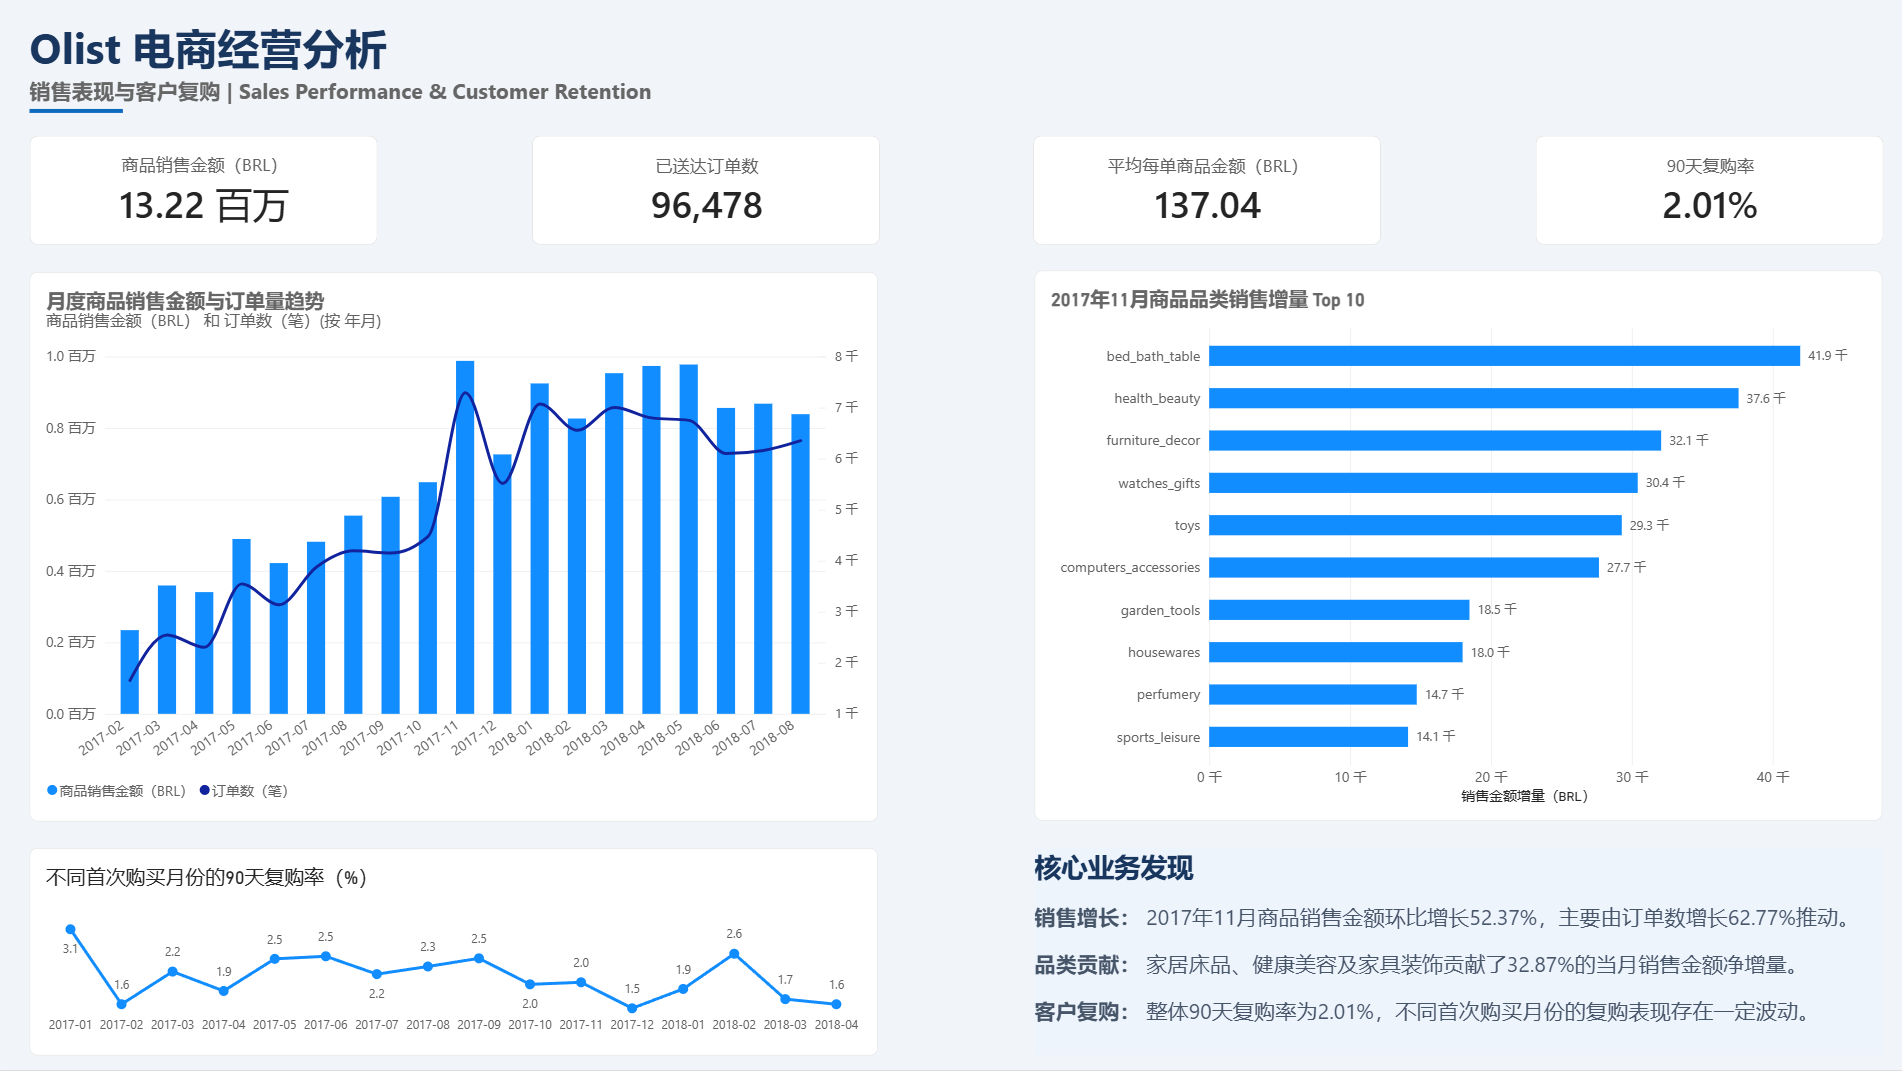

The page's visual inventory and layout, read from the dashboard file:
{"tool":"powerbi","page":{"name":"01｜销售表现与客户复购","canvas":[1920,1080],"ordinal":0},"visuals":[{"type":"cardVisual","title":"商品销售金额（BRL）","fields":{"Data":["Sum(01_总体经营KPI.total_item_amount_brl)"]},"box":[34.8,140.8,350,110],"z":0},{"type":"cardVisual","title":"商品销售金额（BRL）","fields":{"Data":["Sum(01_总体经营KPI.delivered_orders)"]},"box":[539.7,140.8,350,110],"z":1000},{"type":"cardVisual","title":"商品销售金额（BRL）","fields":{"Data":["Sum(01_总体经营KPI.avg_item_amount_per_order_brl)"]},"box":[1044.7,140.8,350,110],"z":2000},{"type":"lineClusteredColumnComboChart","title":"月度商品销售金额与订单量趋势","fields":{"Category":["02_月度销售趋势.年月"],"Y":["Sum(02_月度销售趋势.total_sales)"],"Y2":["Sum(02_月度销售趋势.order_count)"]},"box":[34.8,277.5,853.4,552.7],"z":3000},{"type":"clusteredBarChart","title":"2017年11月商品品类销售增量 Top 10","fields":{"Category":["03_2017年11月品类增长Top10.category"],"Y":["Sum(03_2017年11月品类增长Top10.sales_increase)"]},"box":[1045.5,276.6,852.4,553.2],"z":4000},{"type":"lineChart","title":"不同首次购买月份的90天复购率（%）","fields":{"Category":["04_90天复购Cohort.年月"],"Y":["Sum(04_90天复购Cohort.repeat_rate_90d_pct)"]},"box":[34.8,856.9,853.4,208.6],"z":5000},{"type":"cardVisual","title":"商品销售金额（BRL）","fields":{"Data":["05_90天复购总体KPI.90天复购率_显示"]},"box":[1549.7,140.8,350,110],"z":6000},{"type":"textbox","box":[34.8,22.6,1847.5,88.7],"z":7000},{"type":"textbox","box":[1045.5,857.7,854.2,208.8],"z":8000},{"type":"shape","box":[34.8,34.8,93.9,161.8],"z":9000}]}

Visuals, with their boxes in screenshot pixels (x1, y1, x2, y2), scaled from the page's 1920x1080 canvas onto the 1902x1071 screenshot:
"商品销售金额（BRL）" cardVisual: box=[34, 140, 381, 249]
"商品销售金额（BRL）" cardVisual: box=[535, 140, 881, 249]
"商品销售金额（BRL）" cardVisual: box=[1035, 140, 1382, 249]
"月度商品销售金额与订单量趋势" lineClusteredColumnComboChart: box=[34, 275, 880, 823]
"2017年11月商品品类销售增量 Top 10" clusteredBarChart: box=[1036, 274, 1880, 823]
"不同首次购买月份的90天复购率（%）" lineChart: box=[34, 850, 880, 1057]
"商品销售金额（BRL）" cardVisual: box=[1535, 140, 1882, 249]
textbox: box=[34, 22, 1865, 110]
textbox: box=[1036, 851, 1882, 1058]
shape: box=[34, 35, 127, 195]
